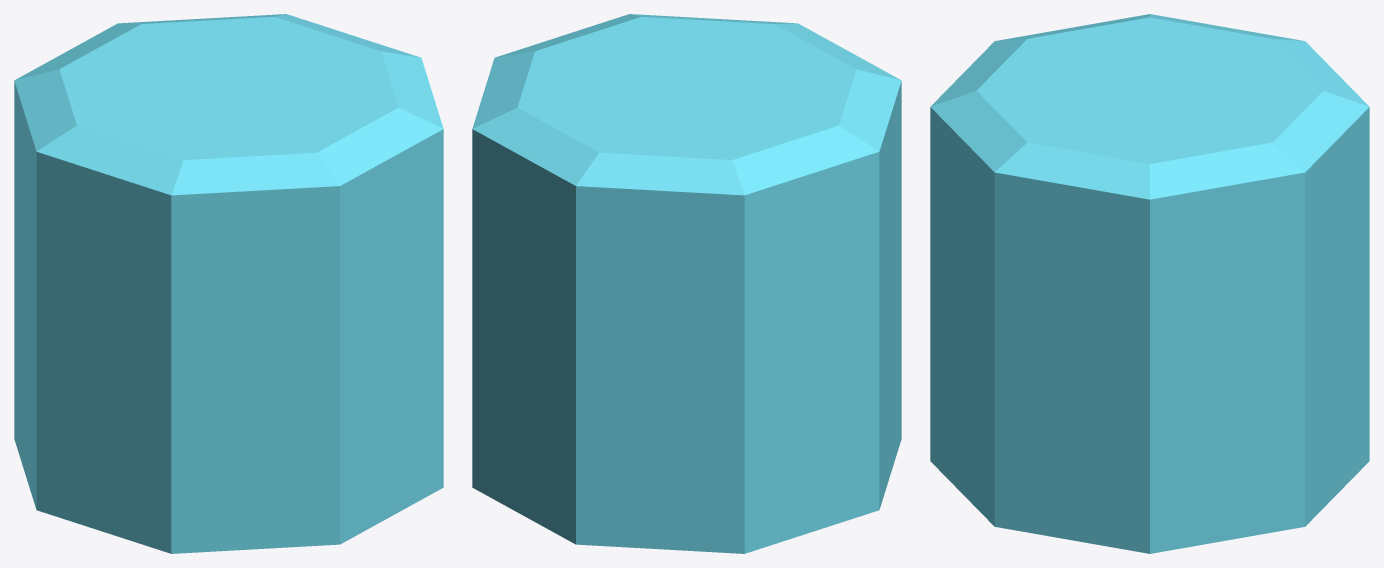
File: ing3 proto.fbx
The picture shows the model from 3 angles, left to right: view 1: azimuth 30°, elevation 25°; view 2: azimuth 150°, elevation 25°; view 3: azimuth 270°, elevation 25°; orthographic projection.
Visible parts, largest first — view 1: ingredient 3; view 2: ingredient 3; view 3: ingredient 3.
Part boxes in pixels (left/top/right/bottom): ingredient 3: left=14, top=14, right=443, bottom=553; ingredient 3: left=472, top=14, right=901, bottom=553; ingredient 3: left=930, top=14, right=1369, bottom=553.
Size of the model in its own units: 0.5491 by 0.5491 by 0.5261.
